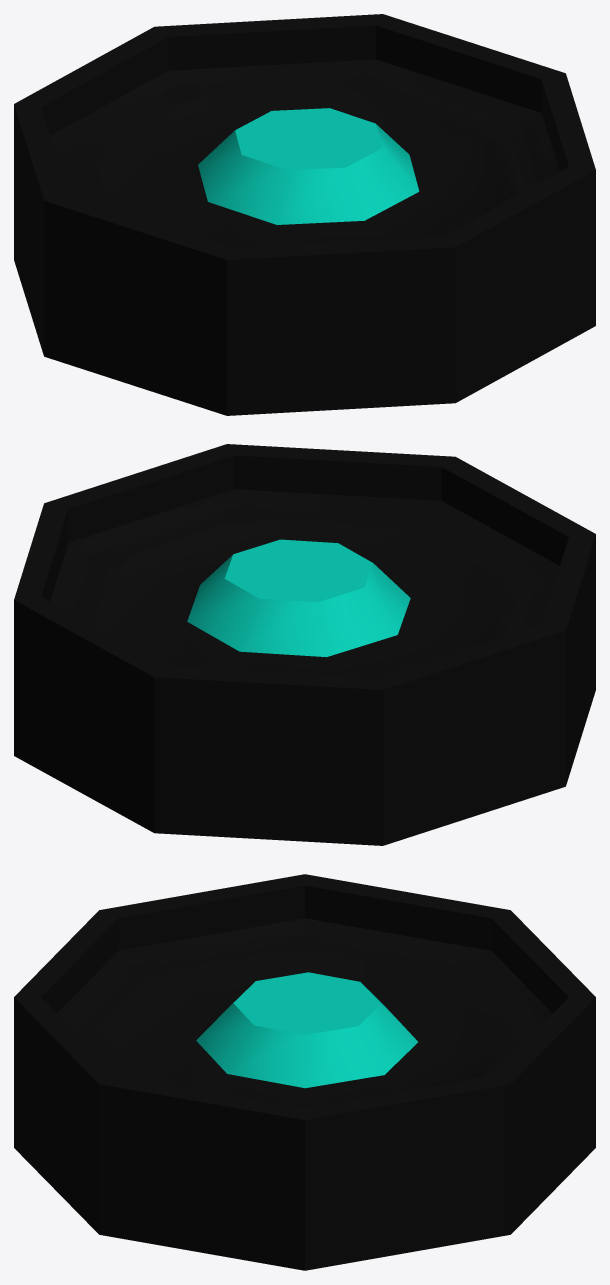
Rendered from MagneticSocket.fbx.
3 renders of one model, top to bottom at view 1: azimuth 30°, elevation 25°; view 2: azimuth 150°, elevation 25°; view 3: azimuth 270°, elevation 25°, orthographic. The views are drawn at different scales.
Parts seen in each view (by area): view 1: Socket (2); view 2: Socket (2); view 3: Socket (2).
Part boxes in pixels (x1,y1,x2,y2): Socket (2): (14, 14, 595, 415); Socket (2): (14, 444, 595, 845); Socket (2): (14, 874, 595, 1270).
Bounding box in the file's own units: 14 × 4 × 14.
